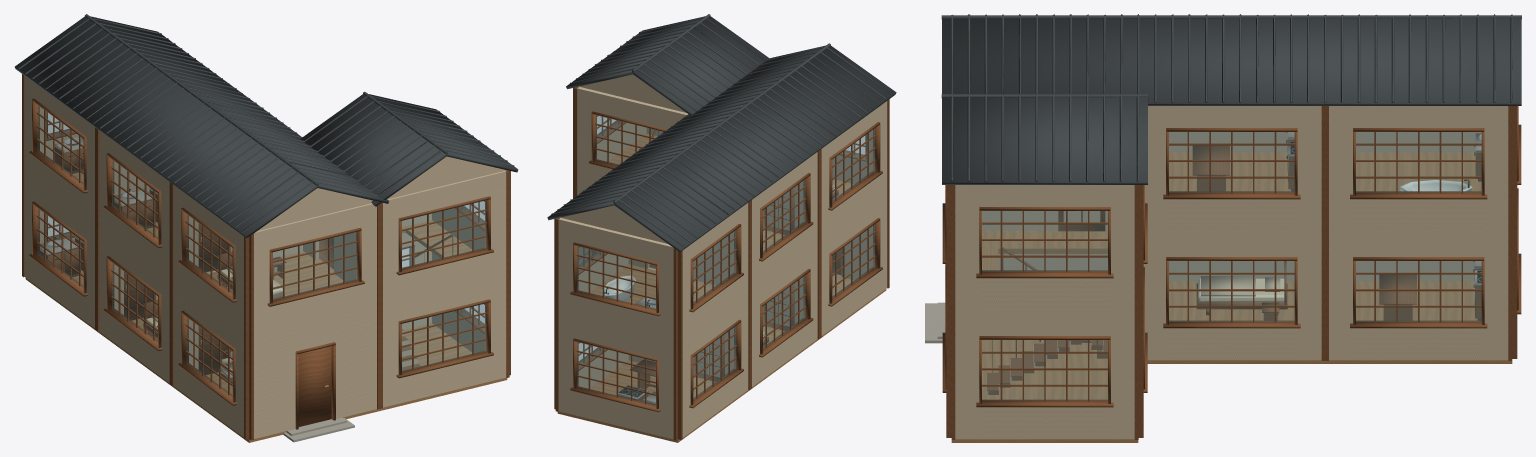
Rendered from bld-lanternhouse-lod-11fa00503d9a.glb.
The picture shows the model from 3 angles, left to right: view 1: azimuth 30°, elevation 25°; view 2: azimuth 150°, elevation 25°; view 3: azimuth 270°, elevation 25°; orthographic projection. The views are drawn at different scales.
Visible parts, largest first — view 1: surface_linen, surface_graphite, surface_walnut, surface_Optical_smoke, surface_oak, surface_stone; view 2: surface_linen, surface_graphite, surface_walnut, surface_Optical_smoke, surface_oak, surface_porcelain; view 3: surface_linen, surface_graphite, surface_walnut, surface_Optical_smoke, surface_oak, surface_stone, surface_ivory, surface_porcelain.
Boxes of the visible parts, x1,y1,x2,y2 form: surface_linen: [24, 76, 506, 438]; surface_graphite: [15, 14, 518, 277]; surface_walnut: [22, 74, 510, 440]; surface_Optical_smoke: [38, 106, 485, 396]; surface_oak: [25, 172, 507, 442]; surface_stone: [40, 138, 354, 442]; surface_linen: [558, 74, 887, 439]; surface_graphite: [547, 14, 896, 251]; surface_walnut: [554, 87, 889, 440]; surface_Optical_smoke: [577, 115, 874, 405]; surface_oak: [557, 134, 886, 442]; surface_porcelain: [601, 275, 635, 301]; surface_linen: [955, 106, 1508, 439]; surface_graphite: [941, 14, 1521, 320]; surface_walnut: [942, 106, 1521, 439]; surface_Optical_smoke: [982, 132, 1481, 400]; surface_oak: [951, 152, 1512, 442]; surface_stone: [925, 132, 1481, 343]; surface_ivory: [1198, 278, 1284, 301]; surface_porcelain: [1400, 179, 1472, 191].
Bounding box in the file's own units: 8.45 × 7.3 × 12.78.
Materials: 12 (4 with a texture image).
